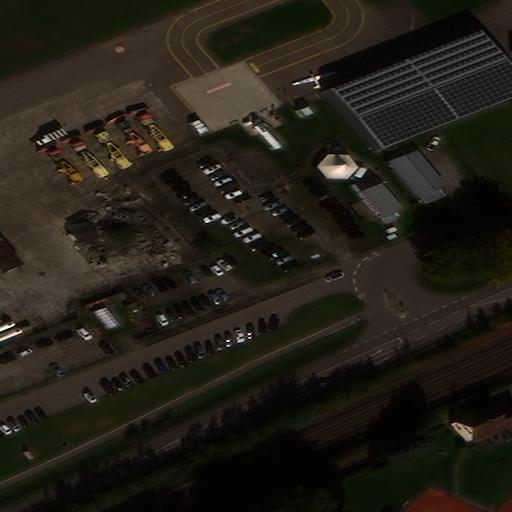Small Civil Transport: (290, 70, 334, 89)
